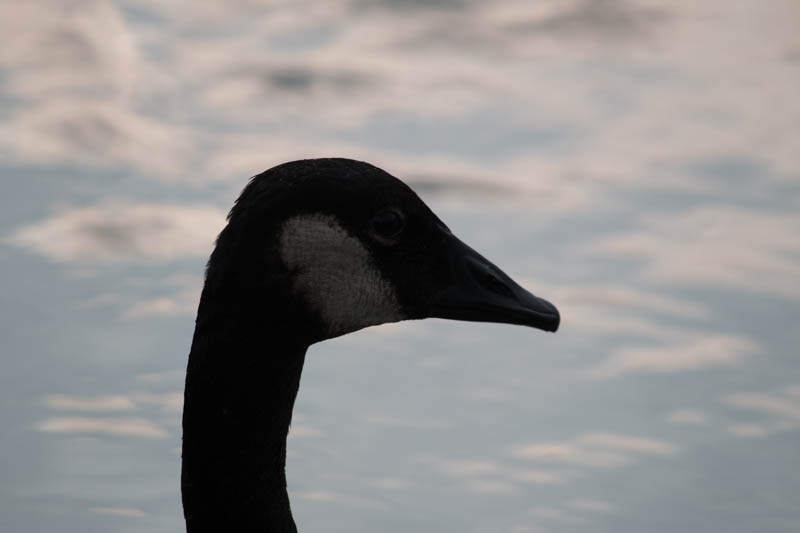goose-head: (192, 157, 561, 345)
